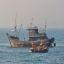fishing boat: (5, 19, 56, 47)
